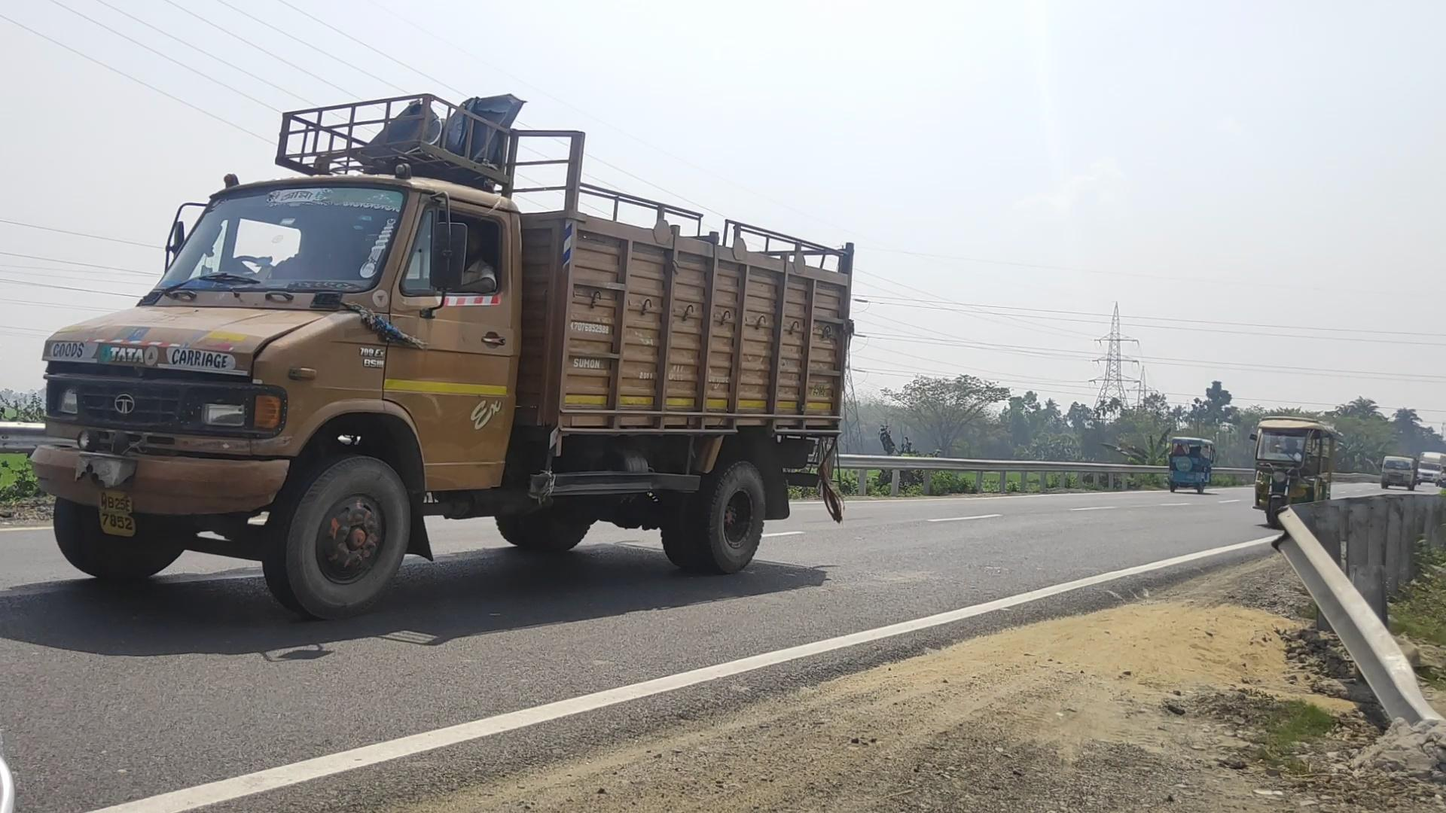Auto: (1249, 416, 1339, 529), (1169, 437, 1216, 495)
truck: (30, 93, 856, 623)
van: (1380, 455, 1419, 492), (1417, 451, 1446, 487)
